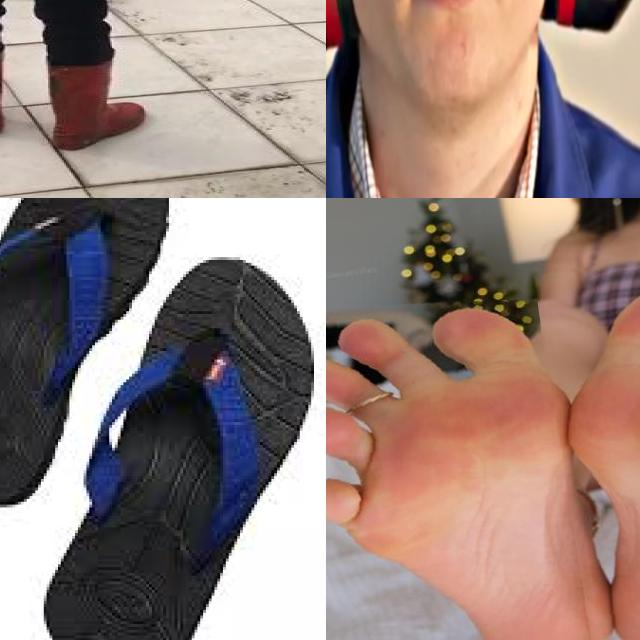Barefoots: (326, 281, 619, 640)
Ear-protection: (326, 0, 640, 89)
Sandals: (0, 198, 326, 640)
boots: (44, 60, 142, 149)
person: (0, 0, 192, 156)
